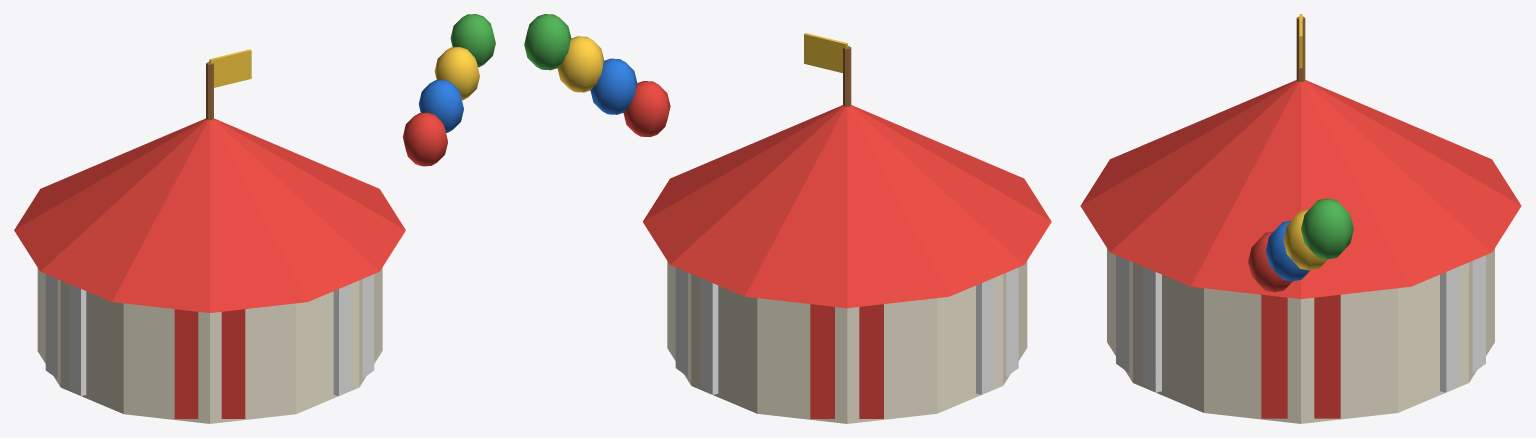
File: b_festival.glb
3 views of the same model, side by side, from view 1: azimuth 30°, elevation 25°; view 2: azimuth 150°, elevation 25°; view 3: azimuth 270°, elevation 25° (orthographic). The views are drawn at different scales.
Parts seen in each view (by area): view 1: Top, Base, Stripe4, Stripe5, Stripe3, Balloon0, Balloon1, Balloon3, Balloon2, Flag, Pole; view 2: Top, Base, Stripe2, Stripe3, Stripe1, Balloon3, Balloon0, Balloon2, Balloon1, Flag, Pole; view 3: Top, Base, Stripe0, Stripe1, Stripe5, Balloon3, Balloon1, Balloon2, Balloon0, Pole.
Part boxes in pixels (left/top/right/bottom): Top: left=14, top=118, right=405, bottom=312; Base: left=37, top=267, right=382, bottom=423; Stripe4: left=174, top=309, right=245, bottom=418; Stripe5: left=333, top=274, right=374, bottom=395; Stripe3: left=45, top=274, right=86, bottom=395; Balloon0: left=403, top=112, right=447, bottom=166; Balloon1: left=418, top=79, right=463, bottom=132; Balloon3: left=450, top=14, right=495, bottom=67; Balloon2: left=434, top=47, right=479, bottom=100; Flag: left=209, top=49, right=251, bottom=87; Pole: left=206, top=62, right=213, bottom=120; Top: left=643, top=105, right=1051, bottom=308; Base: left=667, top=261, right=1027, bottom=423; Stripe2: left=810, top=304, right=883, bottom=418; Stripe3: left=976, top=267, right=1018, bottom=394; Stripe1: left=675, top=267, right=718, bottom=394; Balloon3: left=524, top=14, right=571, bottom=70; Balloon0: left=623, top=81, right=670, bottom=137; Balloon2: left=557, top=36, right=604, bottom=92; Balloon1: left=590, top=58, right=637, bottom=114; Flag: left=804, top=33, right=847, bottom=72; Pole: left=843, top=46, right=851, bottom=106; Top: left=1080, top=80, right=1521, bottom=298; Base: left=1107, top=248, right=1494, bottom=423; Stripe0: left=1261, top=294, right=1340, bottom=418; Stripe1: left=1440, top=255, right=1485, bottom=392; Stripe5: left=1116, top=255, right=1161, bottom=392; Balloon3: left=1301, top=198, right=1353, bottom=259; Balloon1: left=1265, top=220, right=1309, bottom=281; Balloon2: left=1283, top=209, right=1327, bottom=270; Balloon0: left=1248, top=231, right=1292, bottom=292; Pole: left=1296, top=16, right=1305, bottom=81.
Size of the model in its own units: 6.85 by 4.1 by 5.
